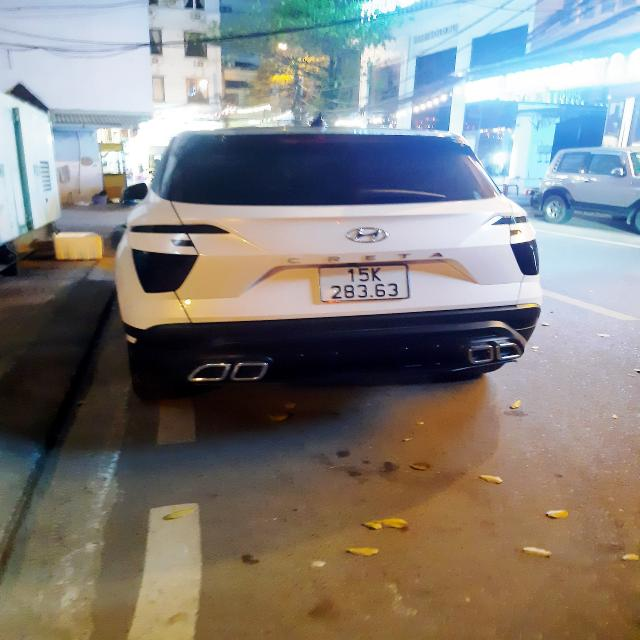license_plate: (313, 260, 416, 308)
